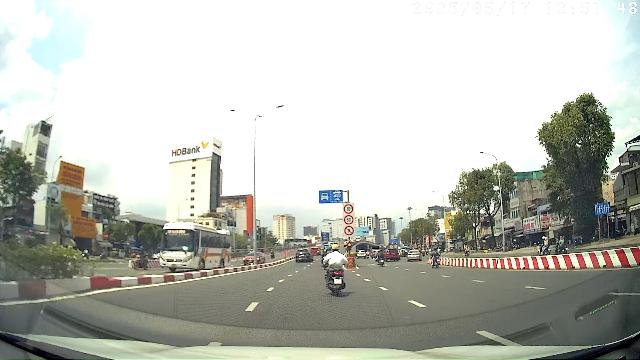127-toc-do-toi-da-50: (344, 214, 354, 225)
